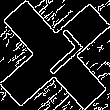L_SW: (26, 26, 84, 84)
